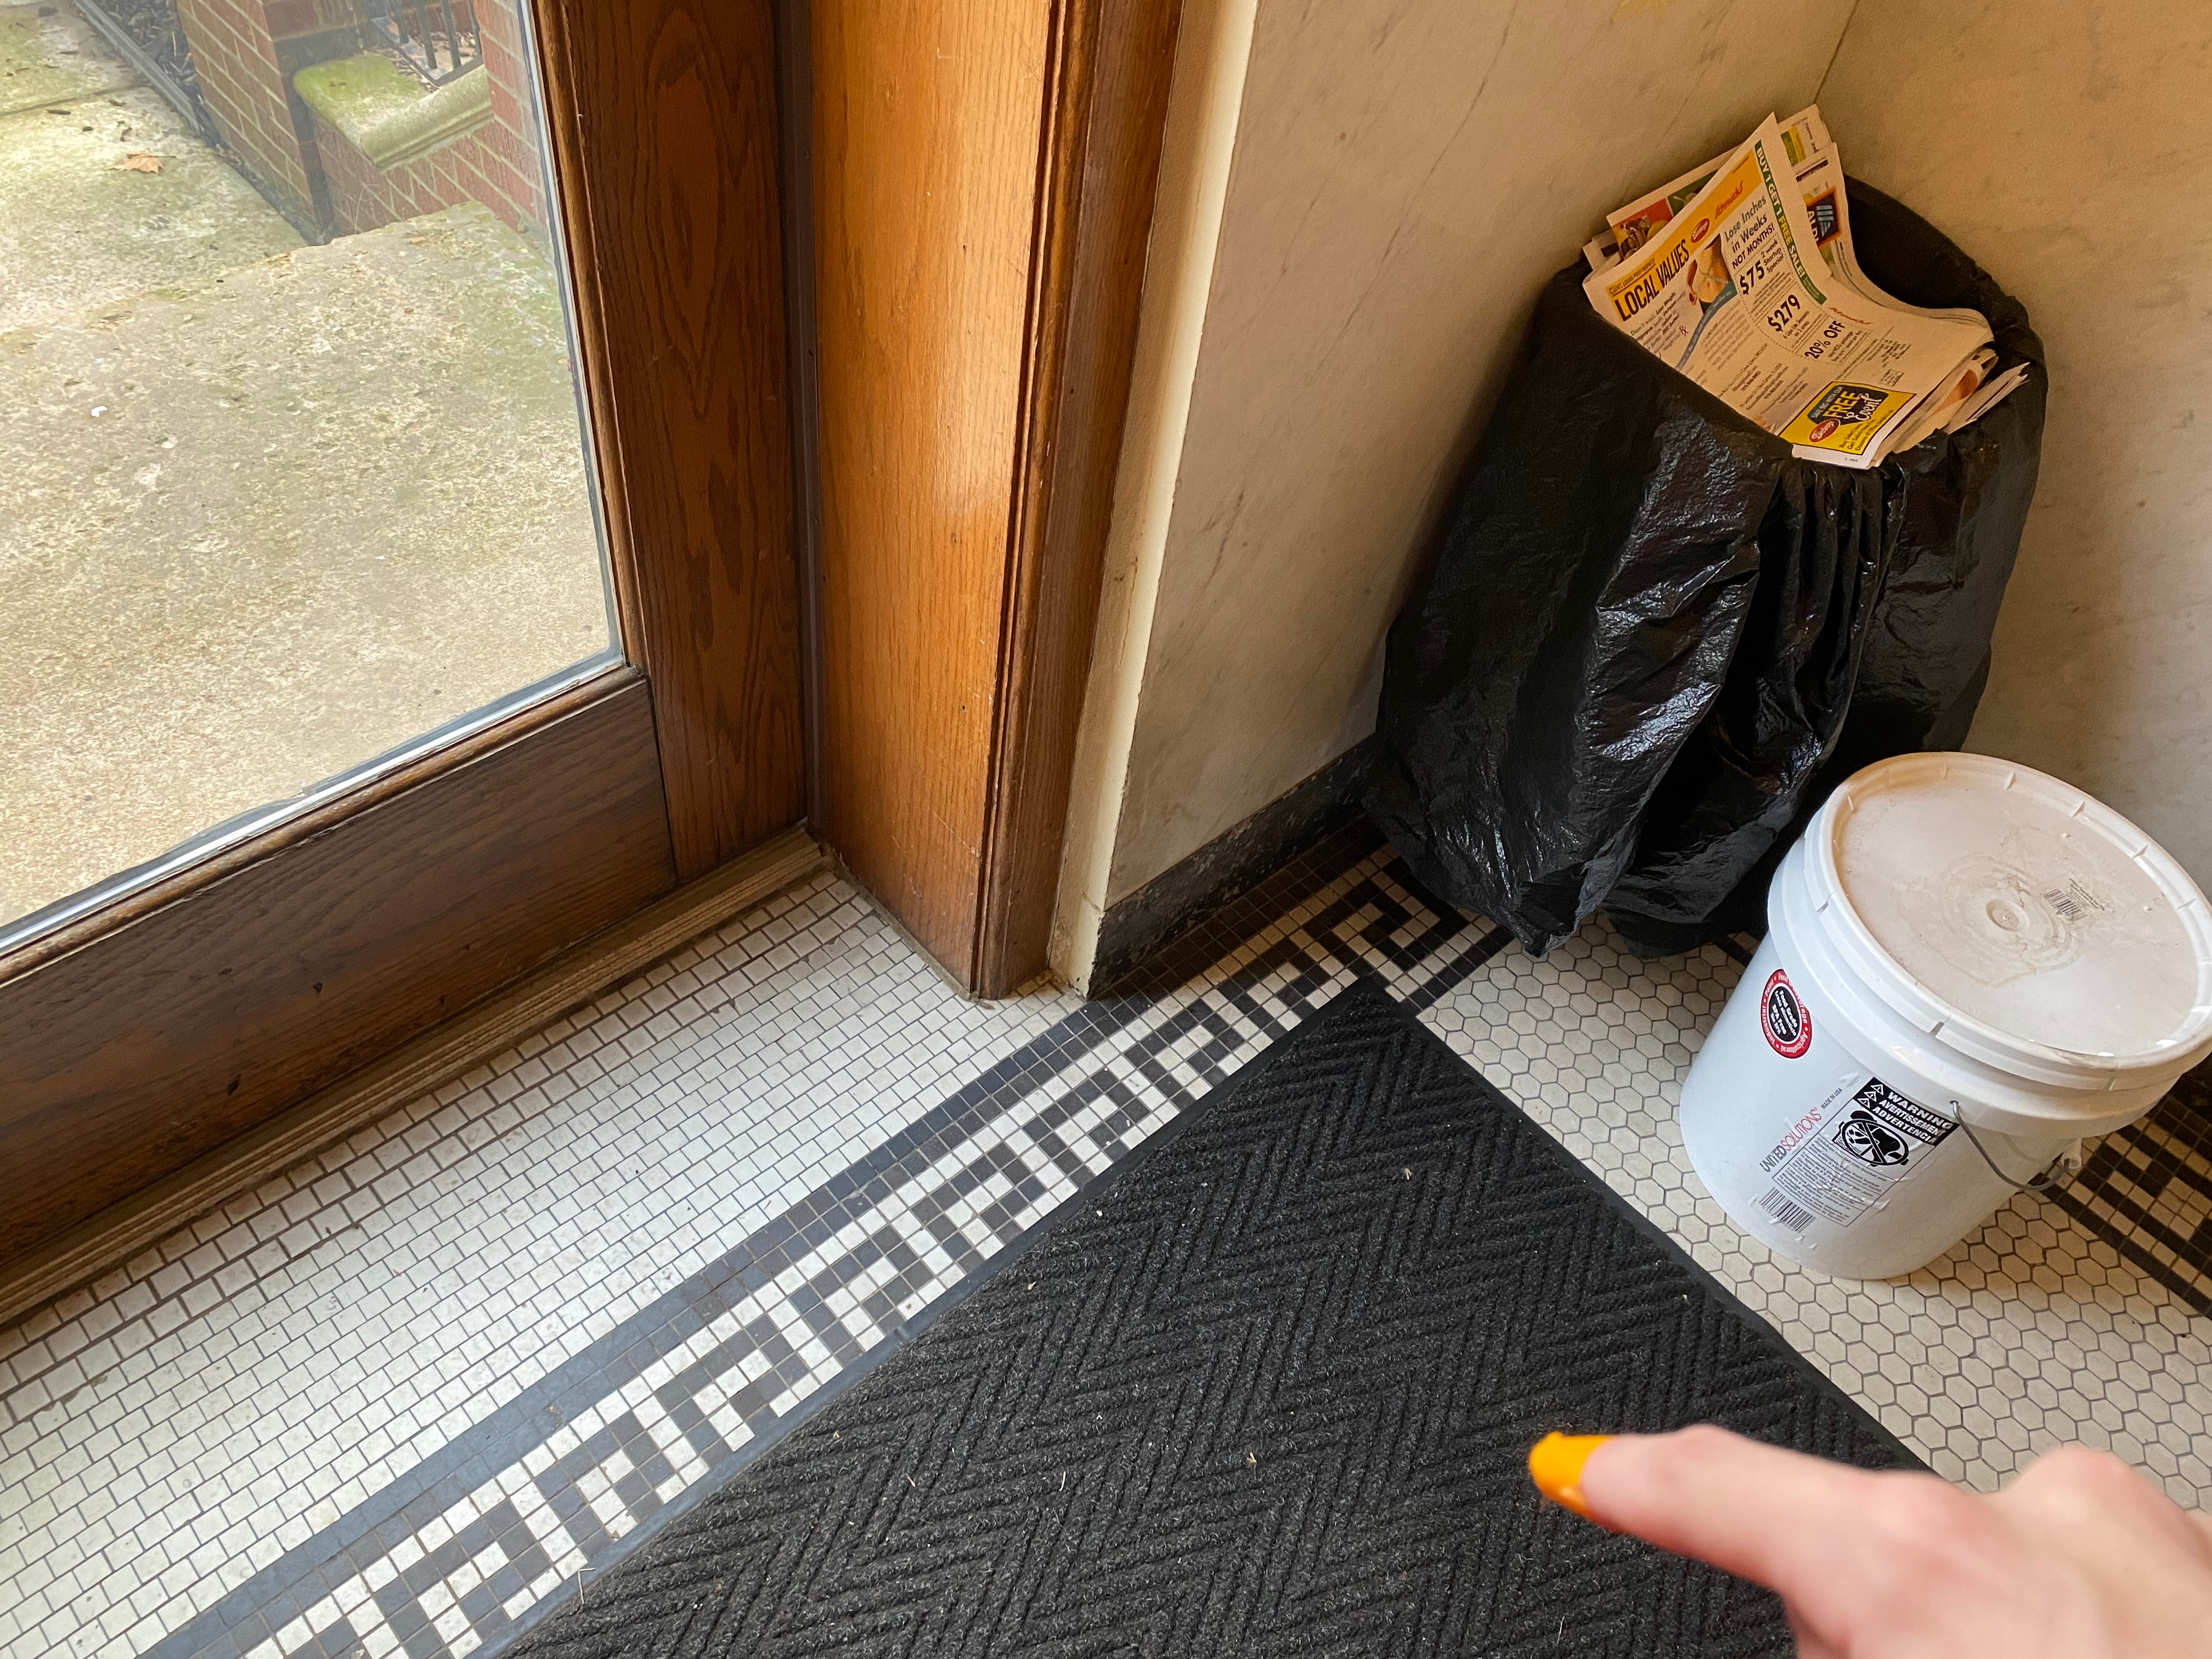fingertip: (1487, 1391, 1644, 1537)
